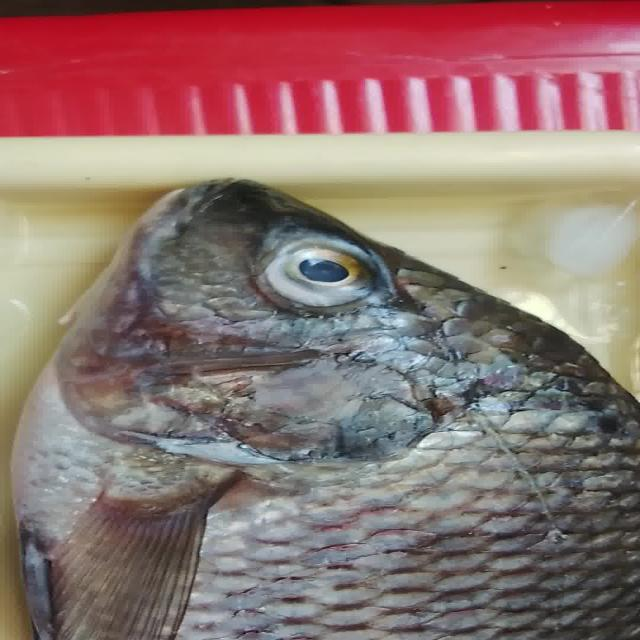Fresh: (36, 416, 570, 636), (235, 224, 407, 316)
